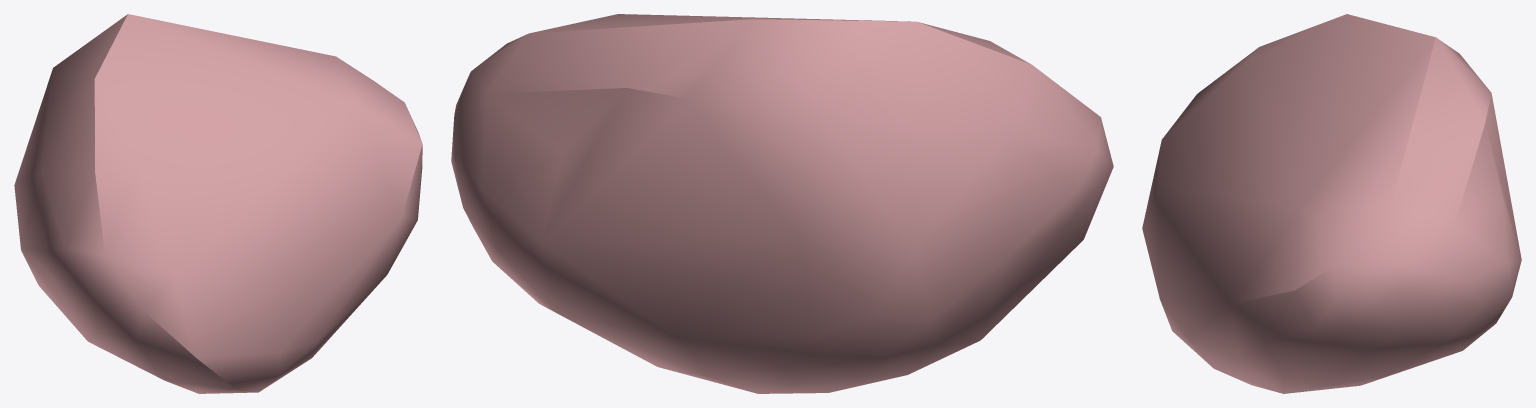
Rendered from fma14965_fj2576.glb.
The picture shows the model from 3 angles, left to right: view 1: azimuth 30°, elevation 25°; view 2: azimuth 150°, elevation 25°; view 3: azimuth 270°, elevation 25°; orthographic projection. The views are drawn at different scales.
Parts seen in each view (by area): view 1: FMA14965_FJ2576; view 2: FMA14965_FJ2576; view 3: FMA14965_FJ2576.
Part boxes in pixels (x1,y1,x2,y2): FMA14965_FJ2576: (14, 14, 422, 393); FMA14965_FJ2576: (451, 14, 1113, 393); FMA14965_FJ2576: (1142, 14, 1521, 393).
Size of the model in its own units: 0.0314 by 0.0236 by 0.025.
